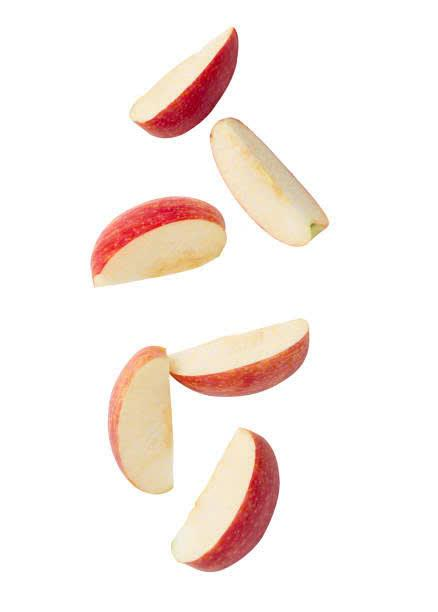apple: (165, 411, 296, 577), (84, 186, 234, 292), (209, 117, 324, 253), (91, 330, 181, 492)
